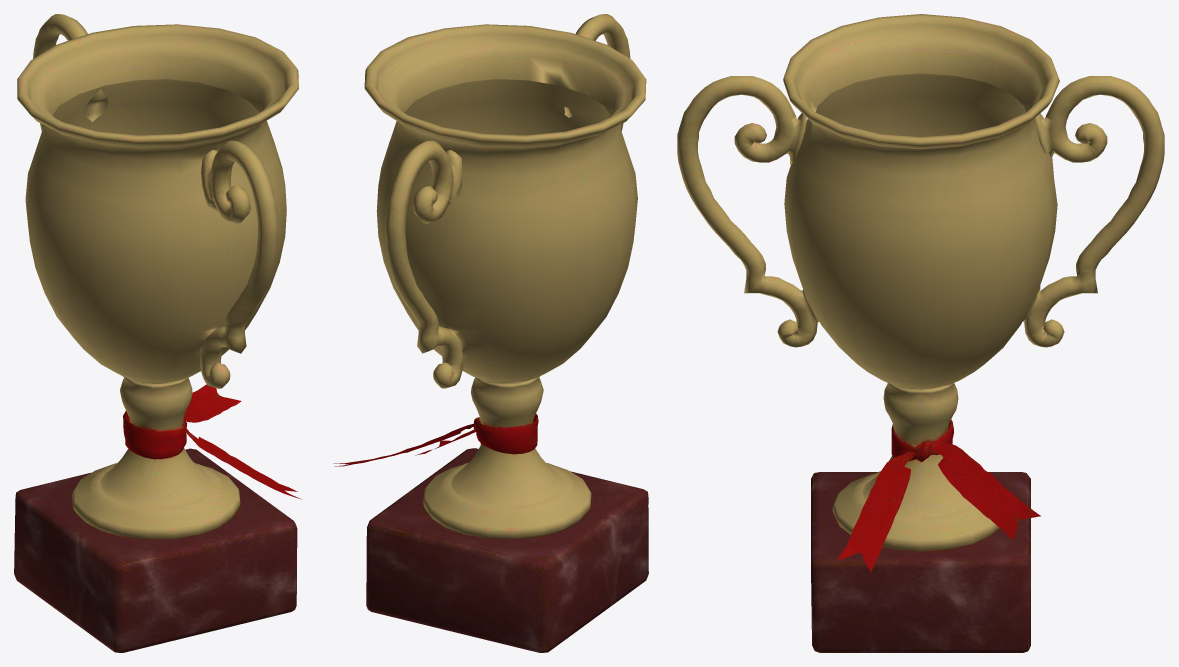
Rendered from trophy.glb.
The picture shows the model from 3 angles, left to right: view 1: azimuth 30°, elevation 25°; view 2: azimuth 150°, elevation 25°; view 3: azimuth 270°, elevation 25°; orthographic projection. The views are drawn at different scales.
Visible parts, largest first — view 1: tripo_node_a740c001-cd9a-4388-8547-6f118a08f315; view 2: tripo_node_a740c001-cd9a-4388-8547-6f118a08f315; view 3: tripo_node_a740c001-cd9a-4388-8547-6f118a08f315.
Part boxes in pixels (<box>): tripo_node_a740c001-cd9a-4388-8547-6f118a08f315: <box>14,14,302,652</box>; tripo_node_a740c001-cd9a-4388-8547-6f118a08f315: <box>333,14,648,652</box>; tripo_node_a740c001-cd9a-4388-8547-6f118a08f315: <box>677,14,1164,652</box>.
Size of the model in its own units: 0.5176 by 0.998 by 0.8262.
1 material, 1 textured.
